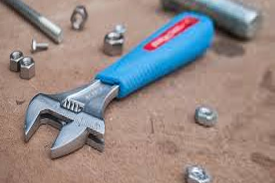Wrench: (14, 19, 223, 158)
